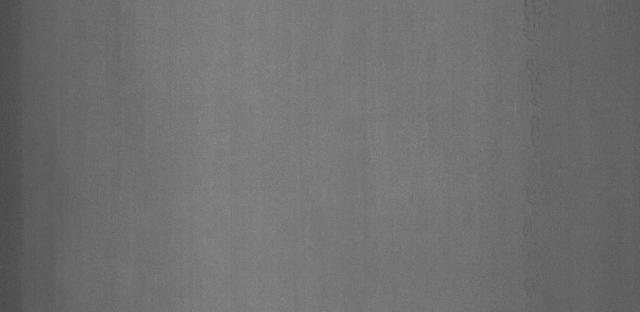silk_spot: (502, 17, 570, 291)
